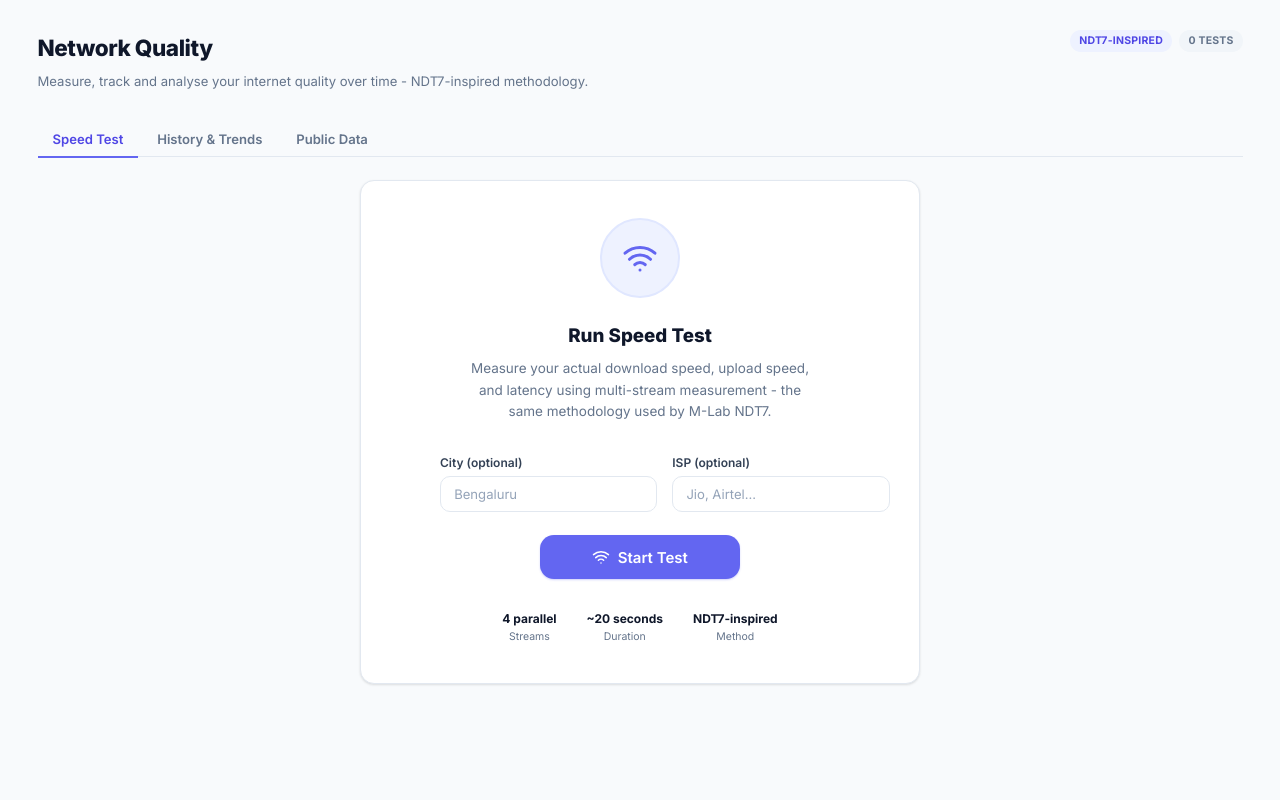
NetworkPage › shows city rows in Public Data tab from API cities array
Click the button "Public Data" at (332, 140), box [281,122,383,158]
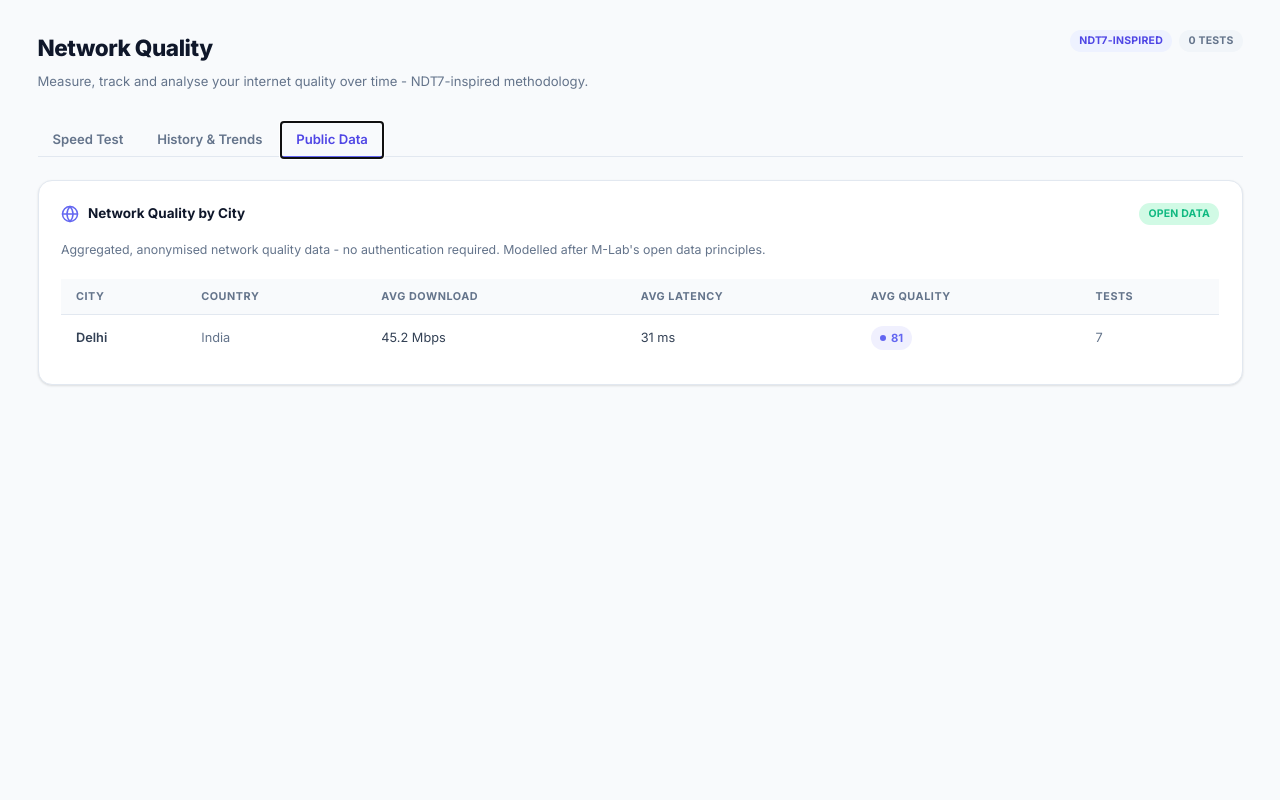
Expected: the text "7" is shown, [1080,314,1219,362]
Expected: the text "Delhi" is shown, [61,314,186,362]
